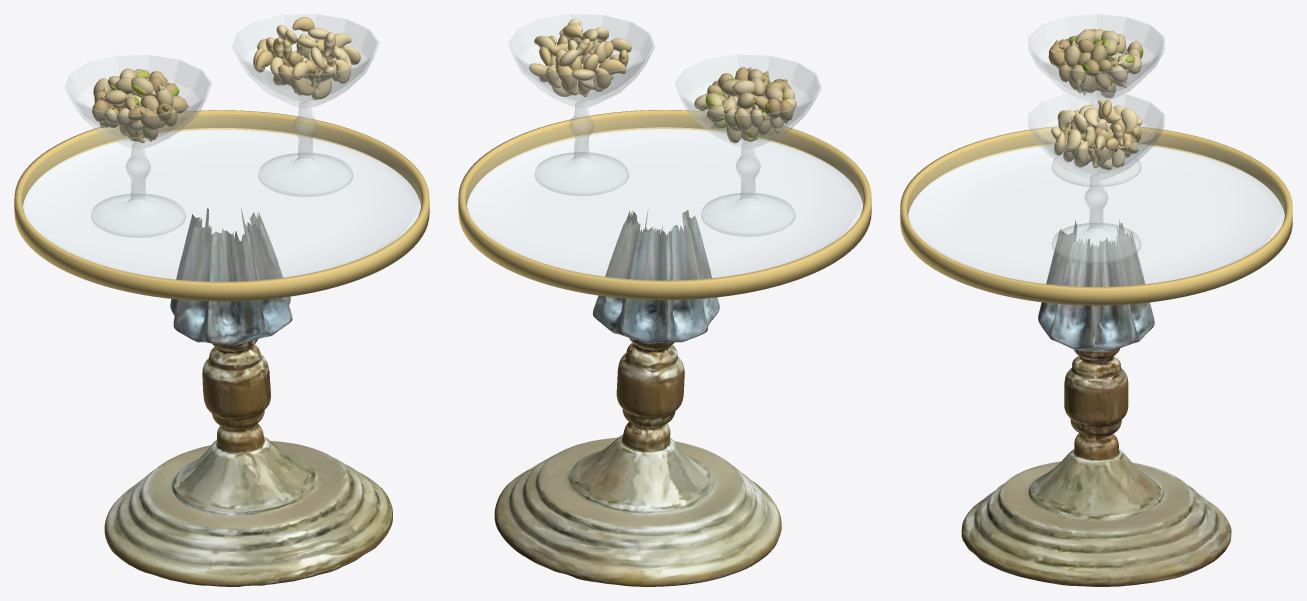
The model's file is oreh.glb.
The picture shows the model from 3 angles, left to right: view 1: azimuth 30°, elevation 25°; view 2: azimuth 150°, elevation 25°; view 3: azimuth 270°, elevation 25°; orthographic projection. The views are drawn at different scales.
Parts seen in each view (by area): view 1: plate_glass, stend_tilla, plate_rim, bowl, bowl.001, foot.001, foot; view 2: plate_glass, stend_tilla, plate_rim, bowl, bowl.001, foot, foot.001; view 3: plate_glass, stend_tilla, plate_rim, bowl, bowl.001, foot.001, foot.
Boxes of the visible parts, <box> form: plate_glass: <box>22,116,421,281</box>; stend_tilla: <box>104,208,392,586</box>; plate_rim: <box>14,110,429,301</box>; bowl: <box>64,55,211,148</box>; bowl.001: <box>232,14,379,108</box>; foot.001: <box>258,101,352,196</box>; foot: <box>91,142,185,237</box>; plate_glass: <box>466,116,863,280</box>; stend_tilla: <box>494,209,781,586</box>; plate_rim: <box>458,110,871,300</box>; bowl: <box>675,55,821,148</box>; bowl.001: <box>508,14,654,107</box>; foot: <box>701,142,795,236</box>; foot.001: <box>534,101,628,195</box>; plate_glass: <box>908,135,1284,286</box>; stend_tilla: <box>961,220,1231,586</box>; plate_rim: <box>900,125,1292,305</box>; bowl: <box>1028,14,1164,102</box>; bowl.001: <box>1028,91,1164,180</box>; foot.001: <box>1052,174,1140,264</box>; foot: <box>1051,103,1141,186</box>.
Bounding box in the file's own units: 1.03 × 1.36 × 1.03.
Materials: 14 (1 with a texture image).
